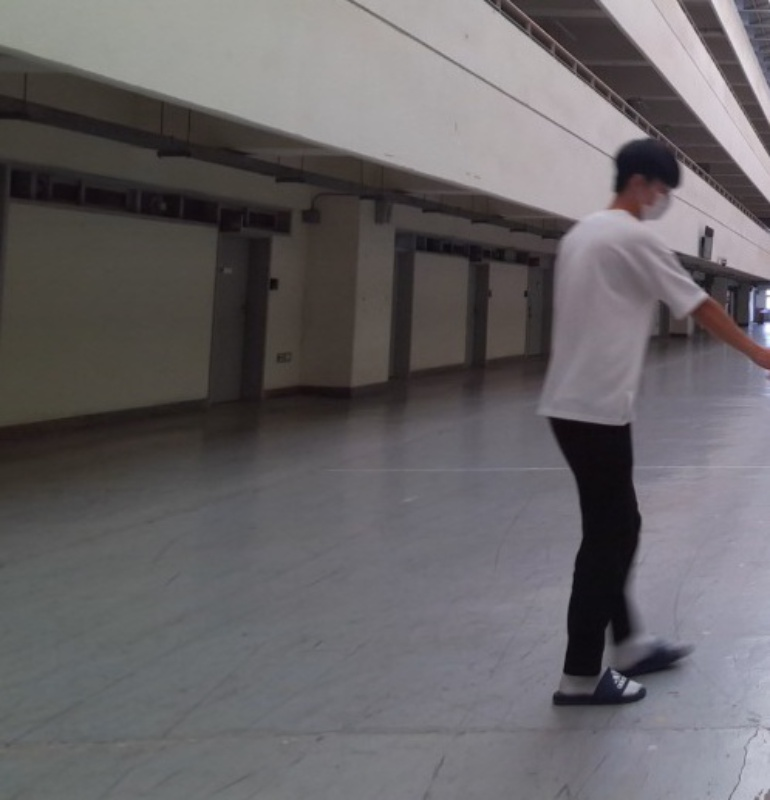person: (531, 142, 769, 714)
